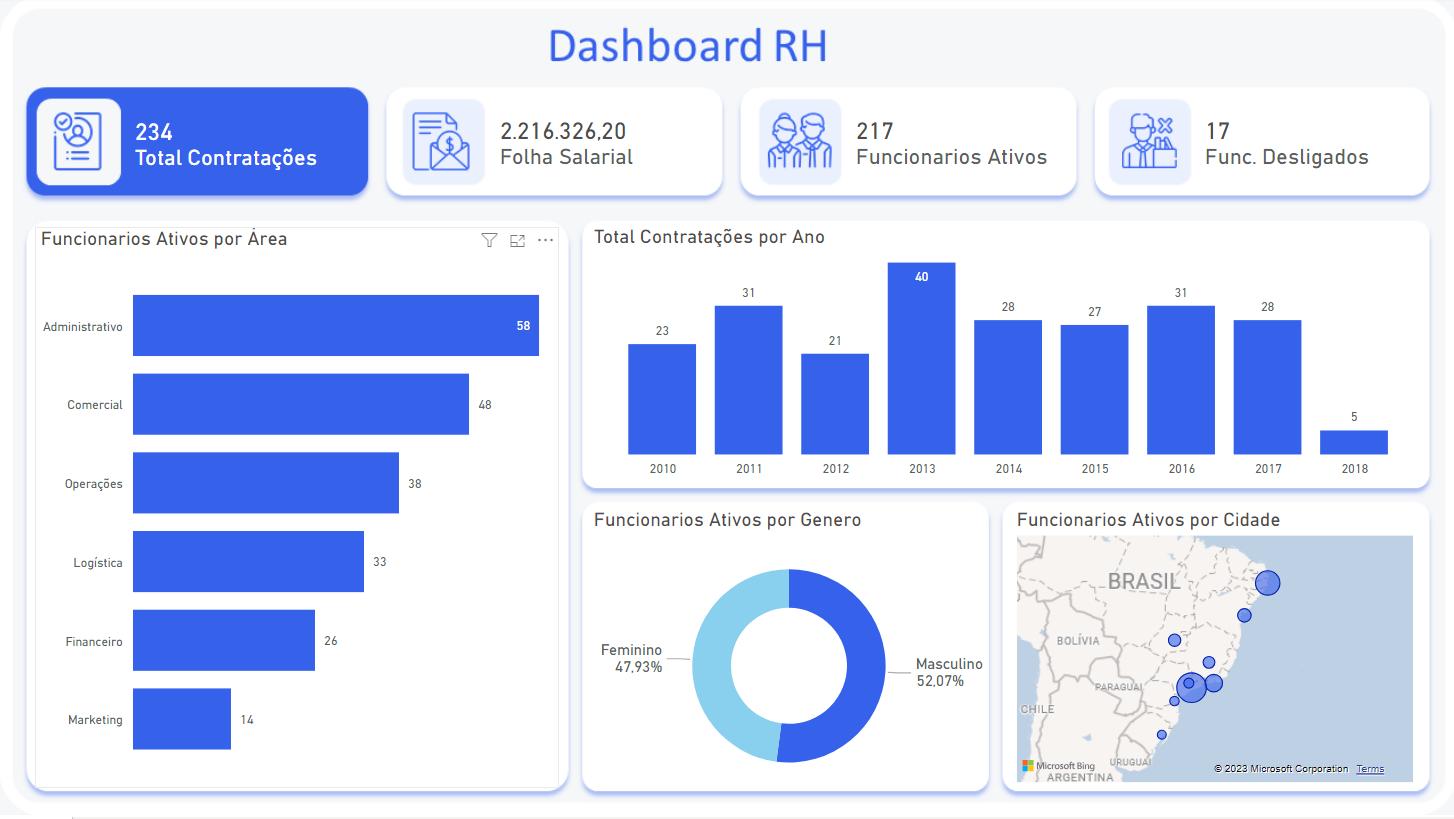

The dashboard page shown, as its layout file describes it:
{"tool":"powerbi","page":{"name":"Página 1","canvas":[1280,720],"ordinal":0},"visuals":[{"type":"card","fields":{"Values":["BaseFuncionarios.Total contratações"]},"box":[117.7,79.2,199,104.5],"z":0},{"type":"card","fields":{"Values":["BaseFuncionarios.Funcionários Ativos"]},"box":[709.3,64.8,221.4,100.8],"z":1000},{"type":"card","fields":{"Values":["BaseFuncionarios.Func. Desligados"]},"box":[1055,64.8,198,104.4],"z":2000},{"type":"columnChart","fields":{"Y":["BaseFuncionarios.Total contratações"],"Category":["BaseFuncionarios.Data de Contratacao.Variation.Hierarquia de datas.Ano"]},"box":[527.8,208.9,712.6,211.1],"z":3000},{"type":"donutChart","fields":{"Y":["BaseFuncionarios.Funcionários Ativos"],"Category":["BaseFuncionarios.Genero"]},"box":[527.8,454.2,333.2,235.3],"z":4000},{"type":"barChart","fields":{"Category":["BaseFuncionarios.Área"],"Y":["BaseFuncionarios.Funcionários Ativos"]},"box":[38.5,208.9,447.6,480.5],"z":5000},{"type":"map","fields":{"Category":["BaseFuncionarios.Cidade"],"Size":["BaseFuncionarios.Funcionários Ativos"]},"box":[892.9,450.1,360.1,235.8],"z":6000},{"type":"card","fields":{"Values":["BaseFuncionarios.Folha Salárial 1"]},"box":[428.5,64.8,345.7,129.6],"z":7000}]}

Visuals, with their boxes in screenshot pixels (x1, y1, x2, y2), scaled from the page's 1280x720 canvas onto the 1454x819 screenshot:
card - BaseFuncionarios.Total contratações: BBox(134, 90, 360, 209)
card - BaseFuncionarios.Funcionários Ativos: BBox(806, 74, 1057, 188)
card - BaseFuncionarios.Func. Desligados: BBox(1198, 74, 1423, 192)
columnChart - BaseFuncionarios.Total contratações x BaseFuncionarios.Data de Contratacao.Variation.Hierarquia de datas.Ano: BBox(600, 238, 1409, 478)
donutChart - BaseFuncionarios.Funcionários Ativos x BaseFuncionarios.Genero: BBox(600, 517, 978, 784)
barChart - BaseFuncionarios.Área x BaseFuncionarios.Funcionários Ativos: BBox(44, 238, 552, 784)
map - BaseFuncionarios.Cidade x BaseFuncionarios.Funcionários Ativos: BBox(1014, 512, 1423, 780)
card - BaseFuncionarios.Folha Salárial 1: BBox(487, 74, 879, 221)
